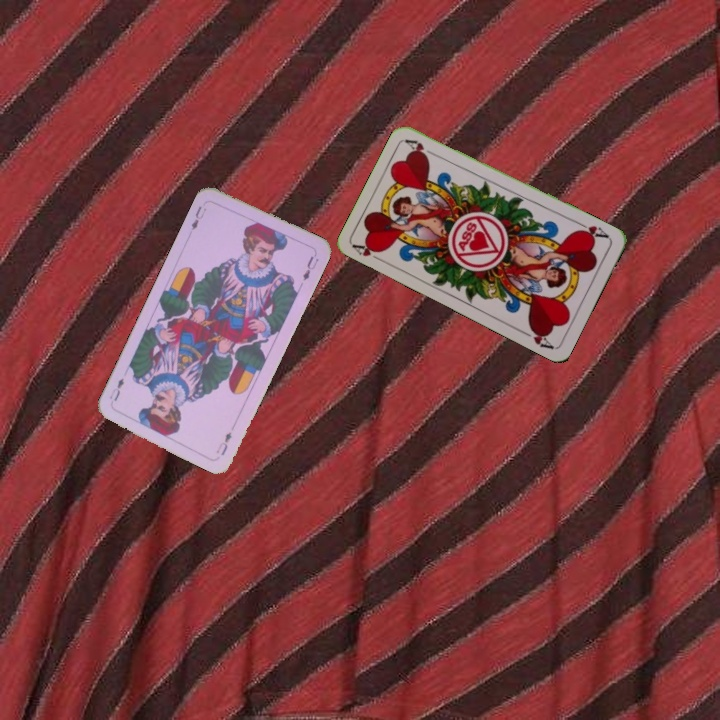EU: (187, 202, 209, 233), (212, 428, 234, 458)
HA: (350, 238, 388, 265), (573, 218, 612, 242)
